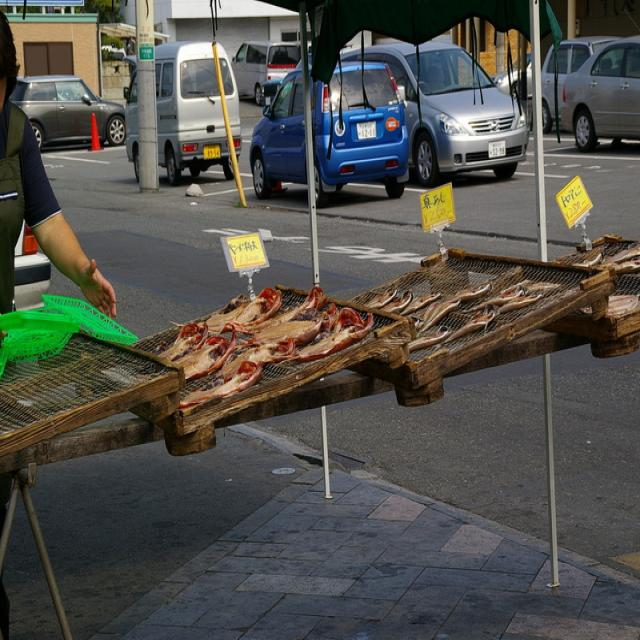熟制海鲜: (150, 291, 376, 369)
